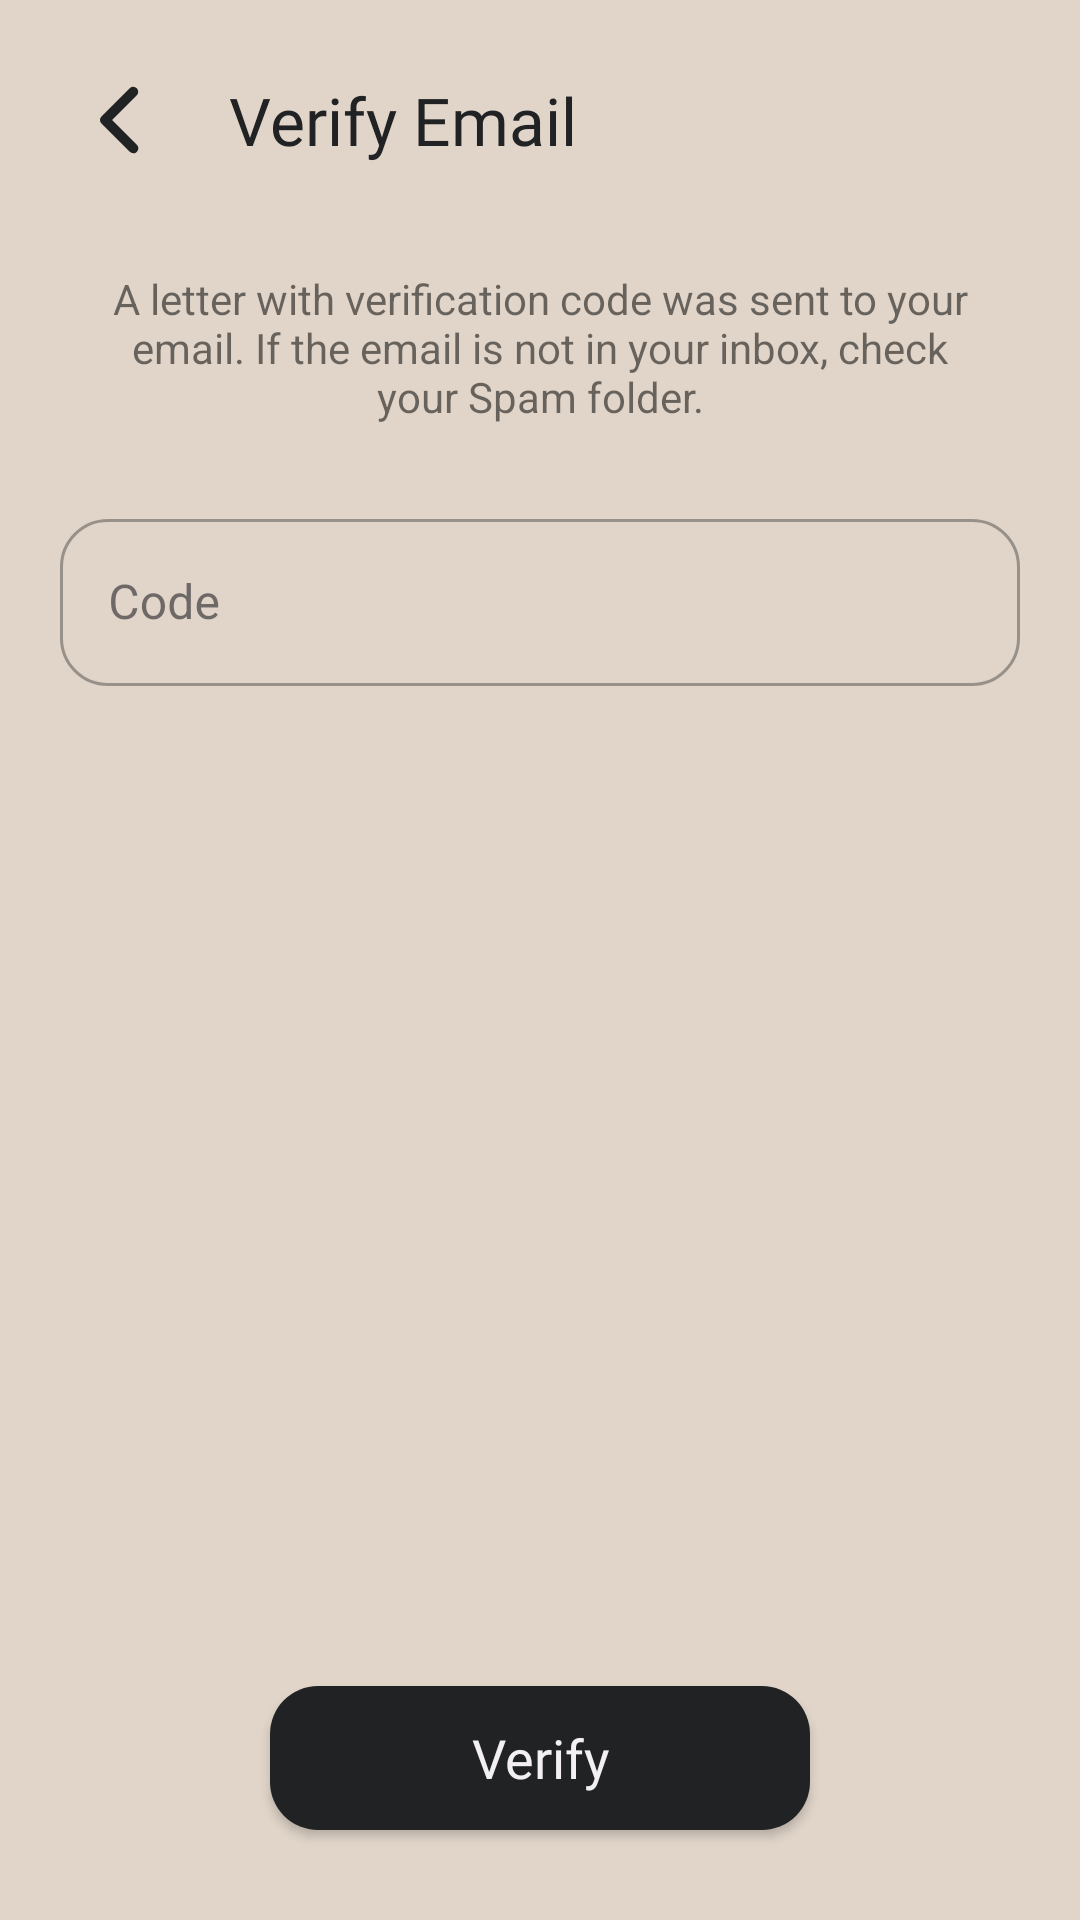

Named icons in this screenshot (1080px x 1920px) and their bounding boxes, Rect(x1, y1, x2, y2):
arrow left: Rect(100, 86, 139, 154)
